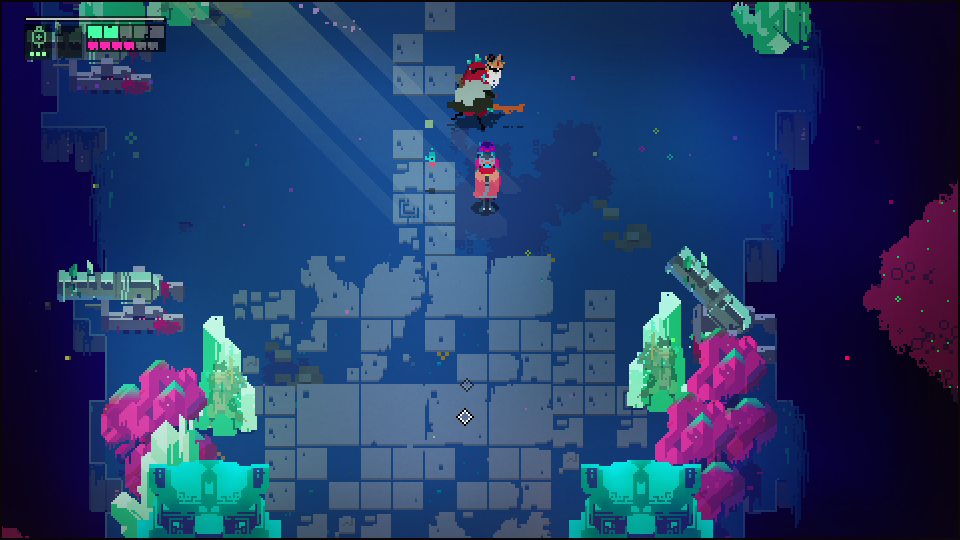hanged_man: (445, 50, 532, 131)
player: (470, 144, 508, 216)
